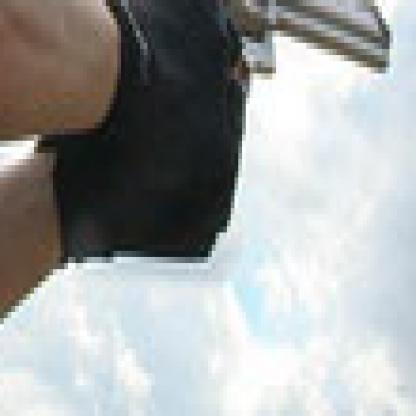gun: (159, 0, 401, 104)
